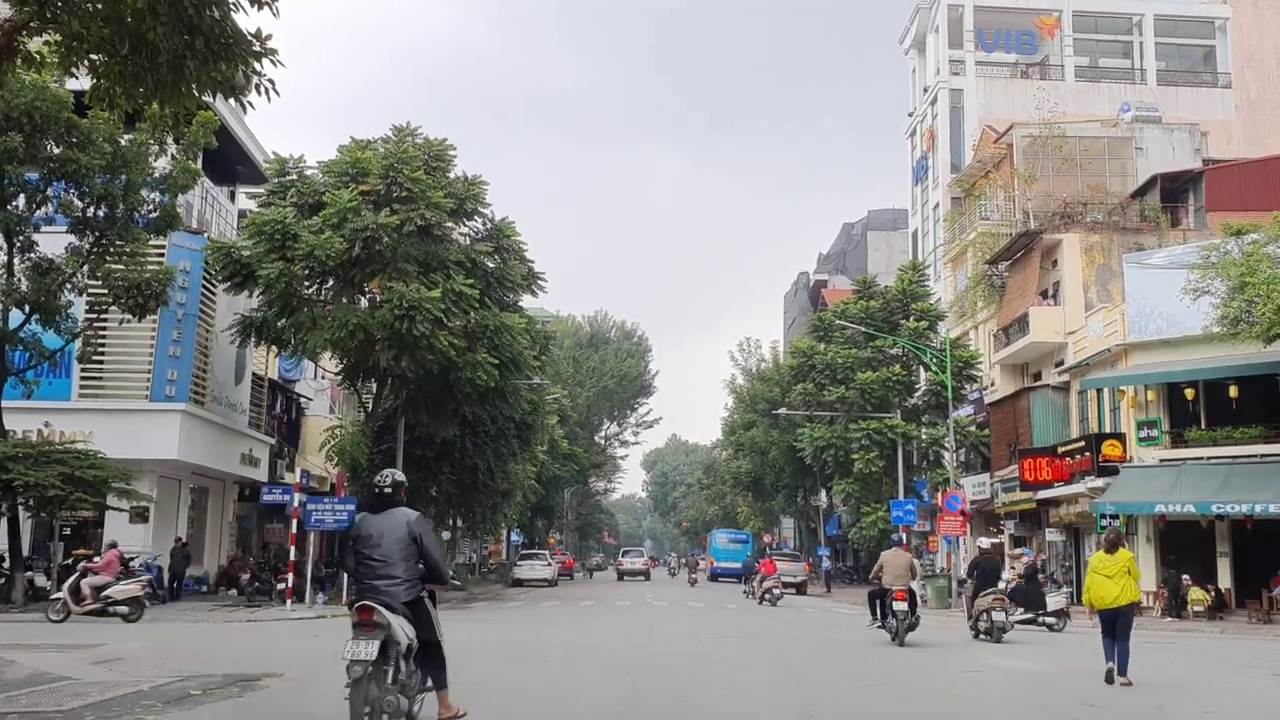vehicle-plate: (343, 639, 376, 661)
